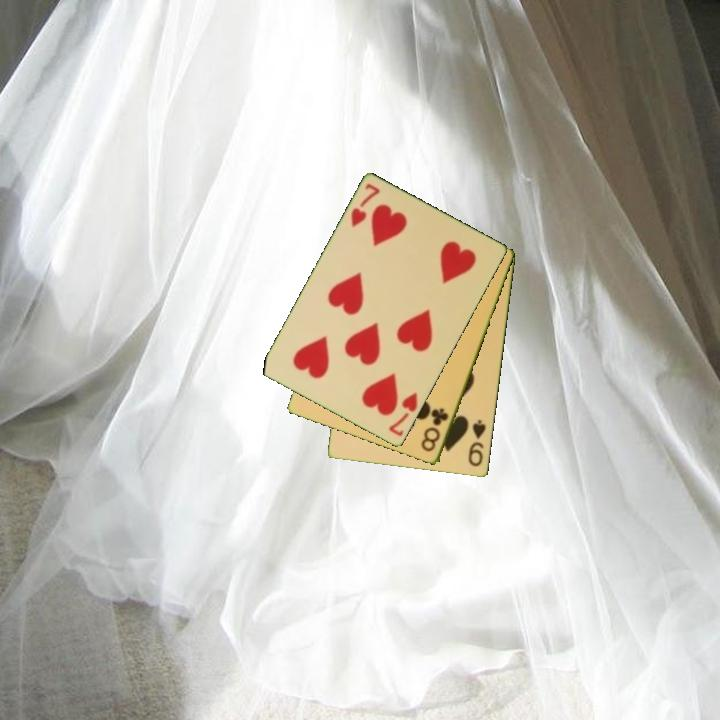7h: (385, 389, 421, 439), (347, 180, 383, 230)
8c: (418, 405, 452, 455)
9s: (465, 417, 489, 470)
